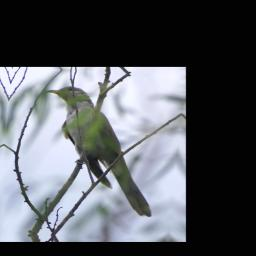Cuckoo: (34, 84, 172, 219)
